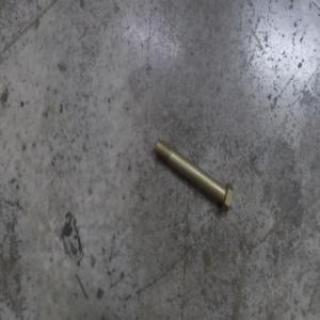Bolttrack_idkeyframe: (153, 137, 233, 216)
